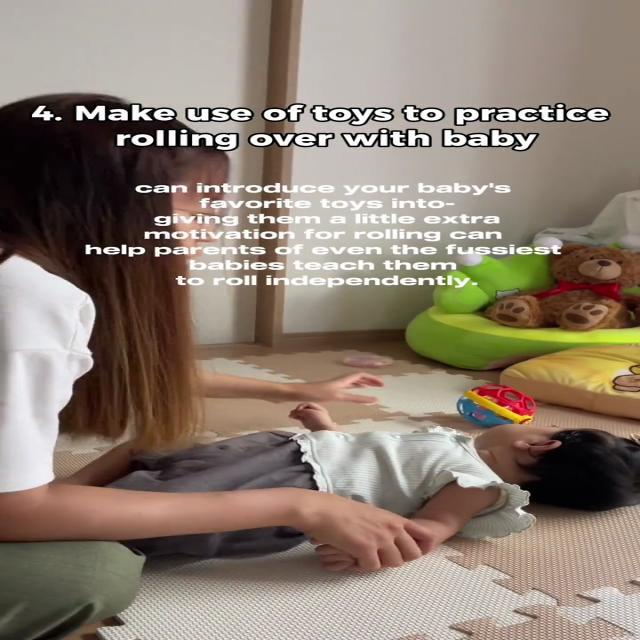baby: (53, 398, 640, 574)
